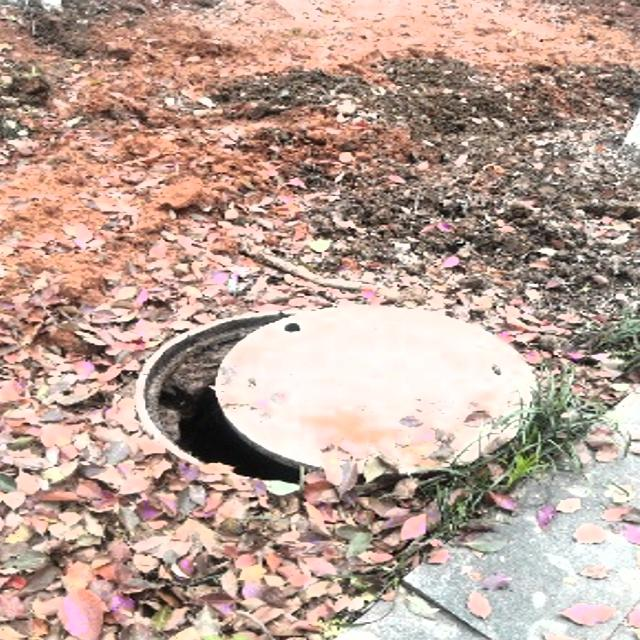uncovered: (135, 302, 534, 488)
